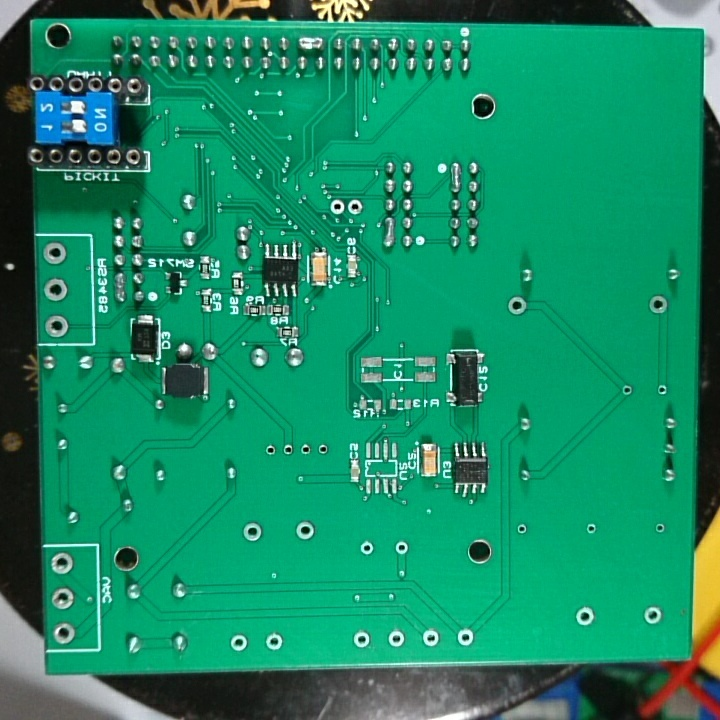F: (41, 276, 70, 304), (41, 240, 69, 269), (48, 586, 76, 614), (44, 312, 72, 340), (647, 289, 671, 321), (49, 551, 77, 577), (51, 620, 78, 645), (293, 518, 317, 545), (574, 604, 599, 629), (640, 604, 667, 627), (506, 293, 529, 318), (239, 521, 263, 544), (351, 626, 372, 652), (386, 627, 407, 652), (455, 626, 476, 649), (419, 628, 442, 649), (263, 630, 284, 652), (229, 632, 249, 655), (358, 538, 377, 560), (345, 196, 364, 218), (393, 536, 410, 560), (313, 439, 331, 461), (327, 197, 346, 217), (618, 382, 638, 399), (513, 520, 530, 539), (297, 441, 314, 460), (280, 442, 296, 461), (584, 519, 599, 537), (653, 520, 667, 536), (264, 443, 276, 460), (656, 383, 668, 398)
P: (110, 268, 129, 305), (379, 214, 398, 249), (447, 158, 464, 194), (296, 35, 327, 53)
